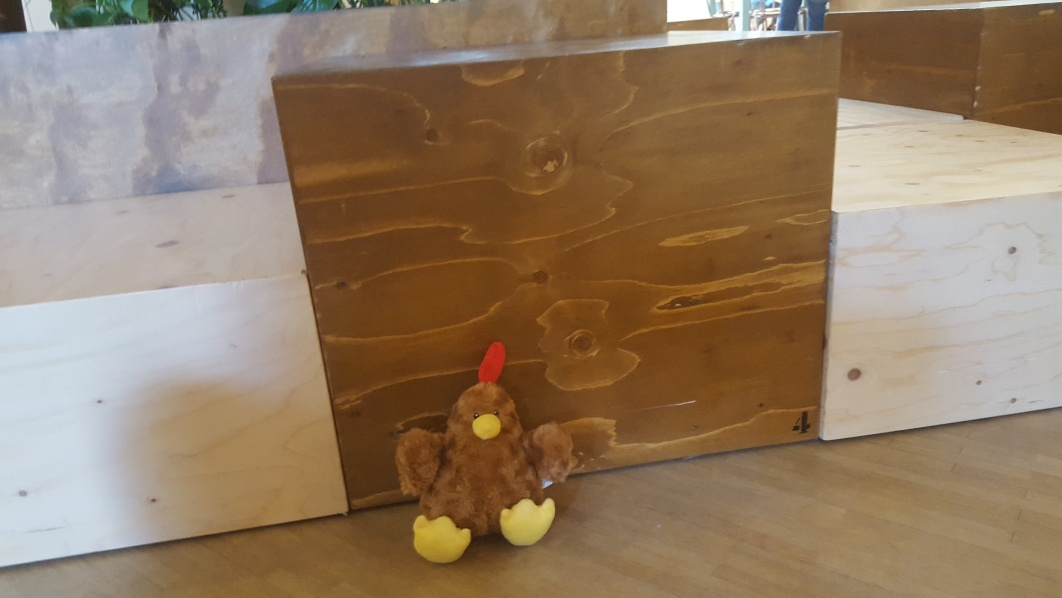chicken: (396, 341, 573, 567)
